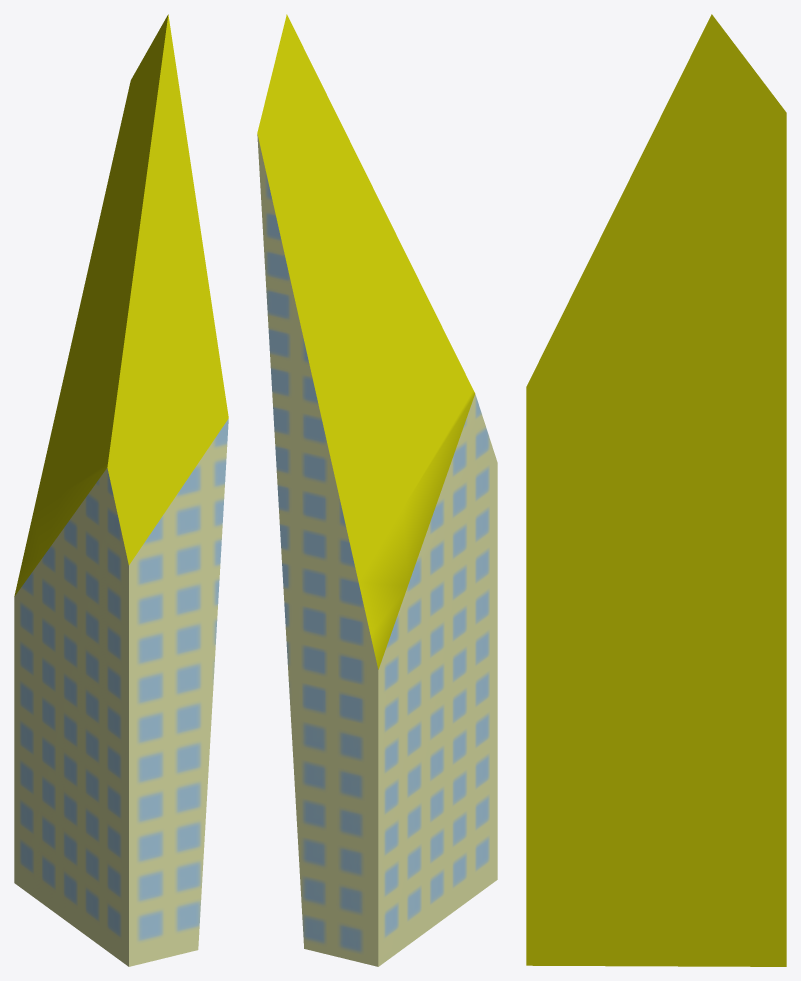
File: cShard5.fbx
3 renders of one model, left to right at view 1: azimuth 30°, elevation 25°; view 2: azimuth 150°, elevation 25°; view 3: azimuth 270°, elevation 25°, orthographic. The views are drawn at different scales.
Parts seen in each view (by area): view 1: shard40; view 2: shard40; view 3: shard40.
Part boxes in pixels (bbox=[...]): shard40: bbox=[14, 14, 228, 966]; shard40: bbox=[257, 14, 497, 966]; shard40: bbox=[526, 14, 786, 966].
Bounding box in the file's own units: 0.0559 × 0.3806 × 0.0917.
Materials: 2 (1 with a texture image).
